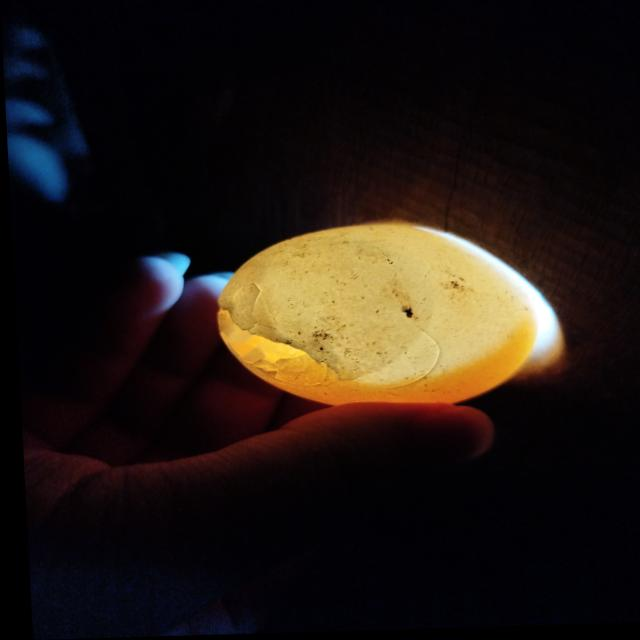Rachadura: (212, 286, 361, 389)
